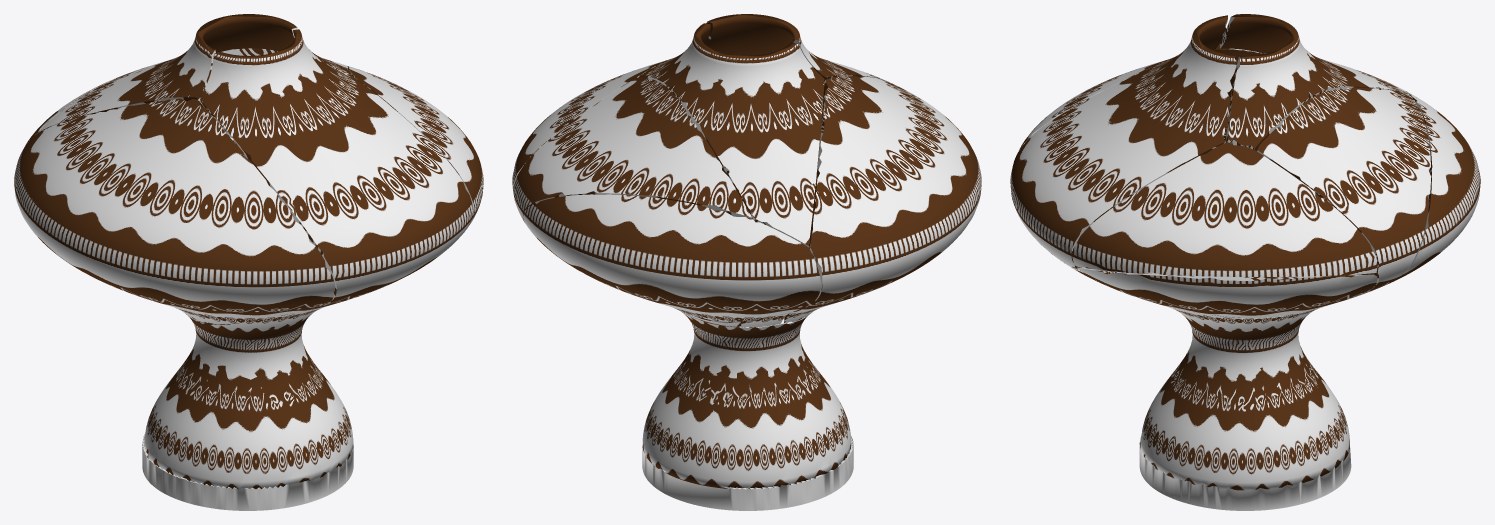
Rendered from VASEFINAL1.fbx.
3 renders of one model, left to right at view 1: azimuth 30°, elevation 25°; view 2: azimuth 150°, elevation 25°; view 3: azimuth 270°, elevation 25°, orthographic.
Parts seen in each view (by area): view 1: Object_1_cell.003, Object_1_cell.005, Object_1_cell.007, Object_1_cell.000, Object_1_cell.001; view 2: Object_1_cell.007, Object_1_cell.003, Object_1_cell.002, Object_1_cell.000, Object_1_cell.008, Object_1_cell.005, Object_1_cell.001; view 3: Object_1_cell.007, Object_1_cell.001, Object_1_cell.005, Object_1_cell.008, Object_1_cell.000, Object_1_cell.006, Object_1_cell.002, Object_1_cell.003.
Part boxes in pixels (x1=…): Object_1_cell.003: x1=14, y1=98, x2=335, y2=324; Object_1_cell.005: x1=200, y1=29, x2=472, y2=305; Object_1_cell.007: x1=142, y1=294, x2=364, y2=510; Object_1_cell.000: x1=35, y1=14, x2=352, y2=134; Object_1_cell.001: x1=349, y1=66, x2=483, y2=229; Object_1_cell.007: x1=642, y1=176, x2=853, y2=510; Object_1_cell.003: x1=784, y1=76, x2=981, y2=322; Object_1_cell.002: x1=523, y1=194, x2=820, y2=321; Object_1_cell.000: x1=639, y1=23, x2=824, y2=247; Object_1_cell.008: x1=513, y1=77, x2=752, y2=326; Object_1_cell.005: x1=661, y1=14, x2=883, y2=173; Object_1_cell.001: x1=512, y1=61, x2=664, y2=190; Object_1_cell.007: x1=1064, y1=263, x2=1351, y2=510; Object_1_cell.001: x1=1072, y1=142, x2=1377, y2=276; Object_1_cell.005: x1=1010, y1=15, x2=1237, y2=267; Object_1_cell.008: x1=1257, y1=87, x2=1430, y2=296; Object_1_cell.000: x1=1219, y1=14, x2=1408, y2=151; Object_1_cell.006: x1=1077, y1=267, x2=1377, y2=318; Object_1_cell.002: x1=1393, y1=91, x2=1480, y2=281; Object_1_cell.003: x1=1016, y1=44, x2=1265, y2=155.
Bounding box in the file's own units: 64.69 × 65.32 × 64.69.
